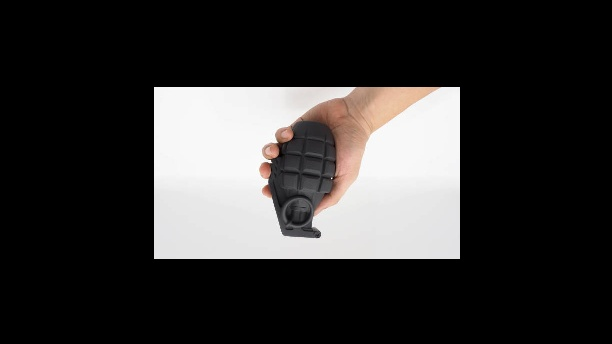e1: (265, 114, 327, 240)
